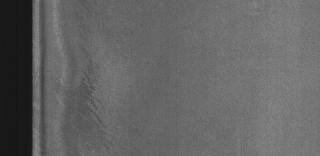water spot: (60, 48, 114, 152)
